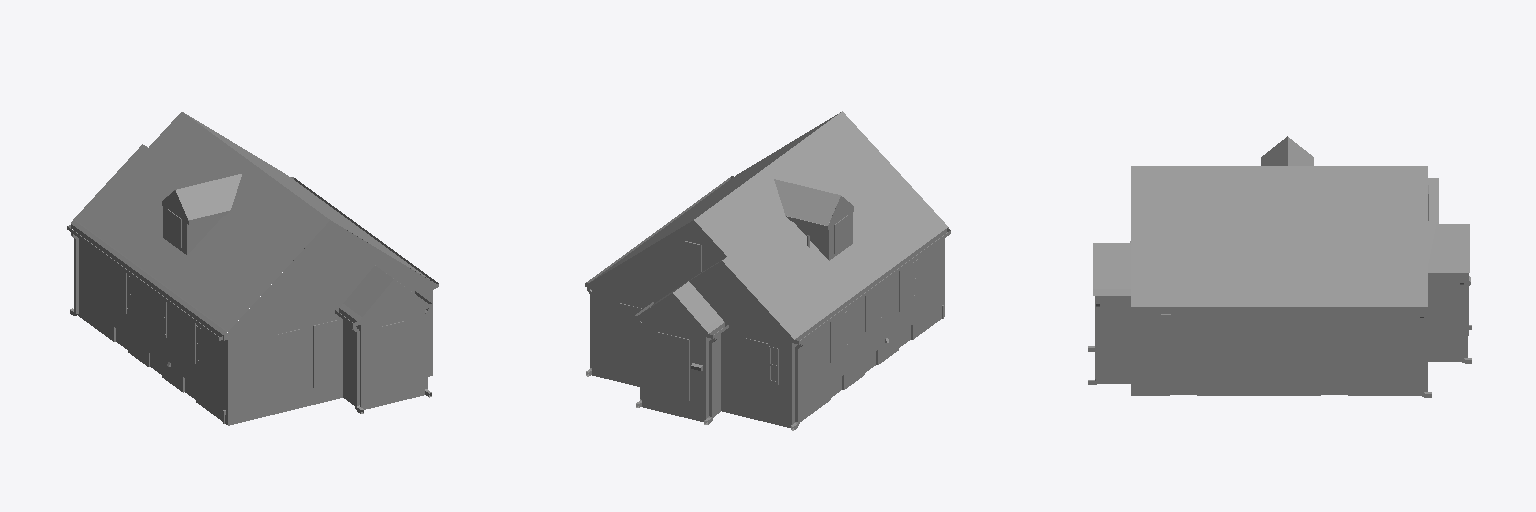
The model's file is maison.obj.
3 renders of one model, left to right at view 1: azimuth 30°, elevation 25°; view 2: azimuth 150°, elevation 25°; view 3: azimuth 270°, elevation 25°, orthographic.
Parts seen in each view (by area): view 1: House; view 2: House; view 3: House.
Boxes of the visible parts, x1=… form: House: x1=67, y1=112, x2=438, y2=425; House: x1=585, y1=111, x2=950, y2=430; House: x1=1088, y1=136, x2=1471, y2=397.
Bounding box in the file's own units: 28.32 × 22.23 × 42.86.